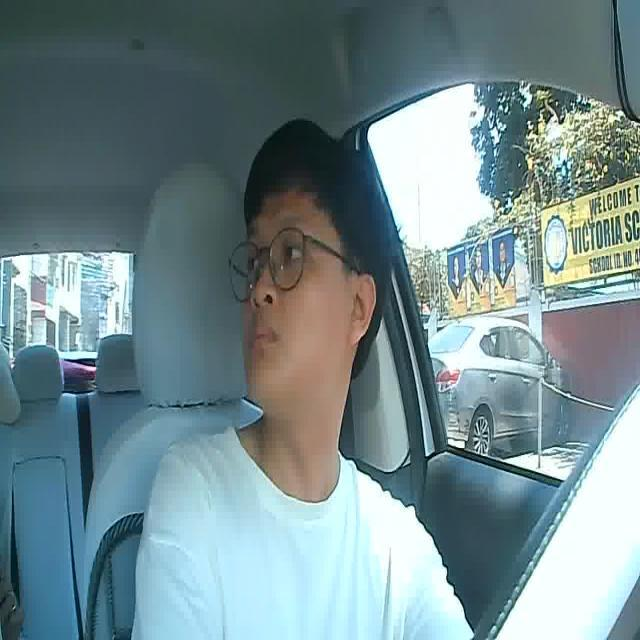Eye-Open: (279, 238, 306, 268), (249, 253, 261, 274)
Inattentive: (238, 116, 396, 400)
Normal: (246, 318, 282, 355)
